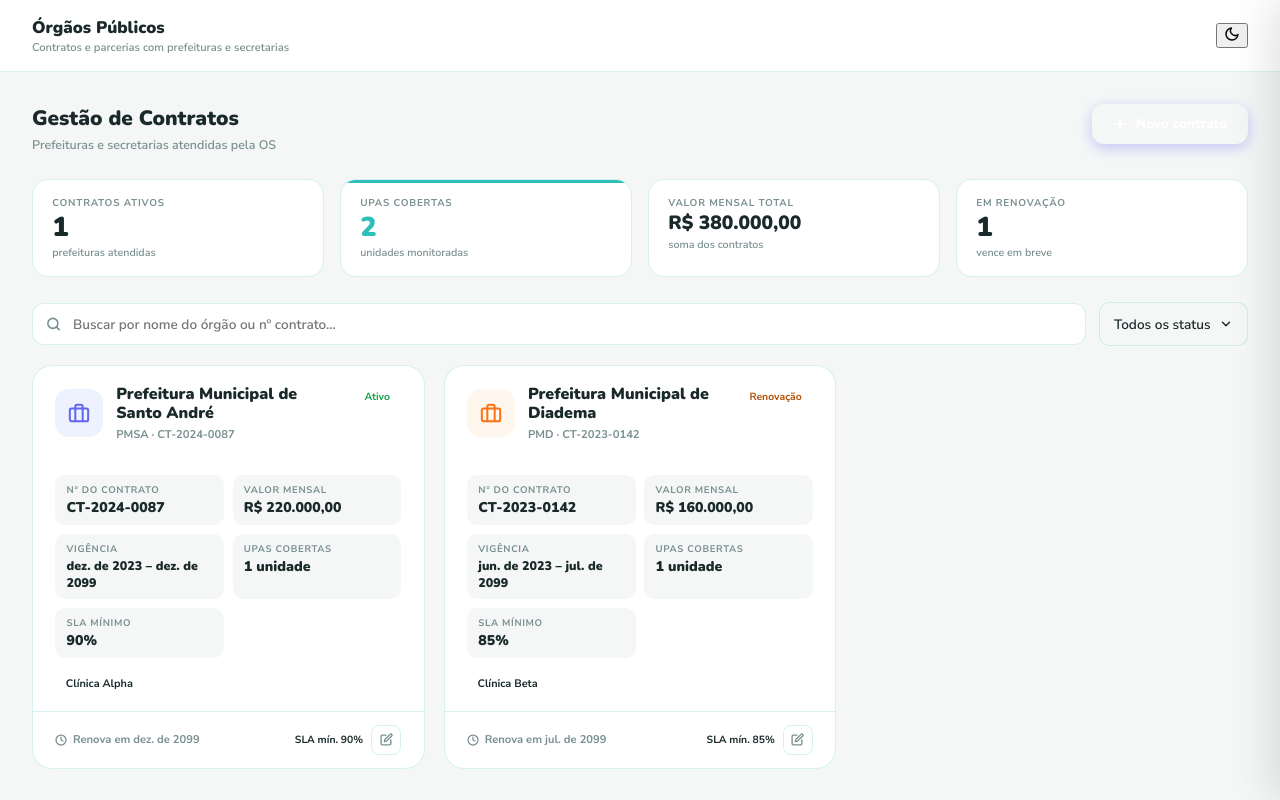
Test case: <AdminOrgaos /> › abre drawer "Editar contrato" ao clicar em editar
expect the text "Prefeitura Municipal de Santo André" is shown: met, box [116, 383, 297, 424]
Click the button with class "org-act-btn" below "Clínica Alpha": (386, 740) [371, 725, 401, 755]
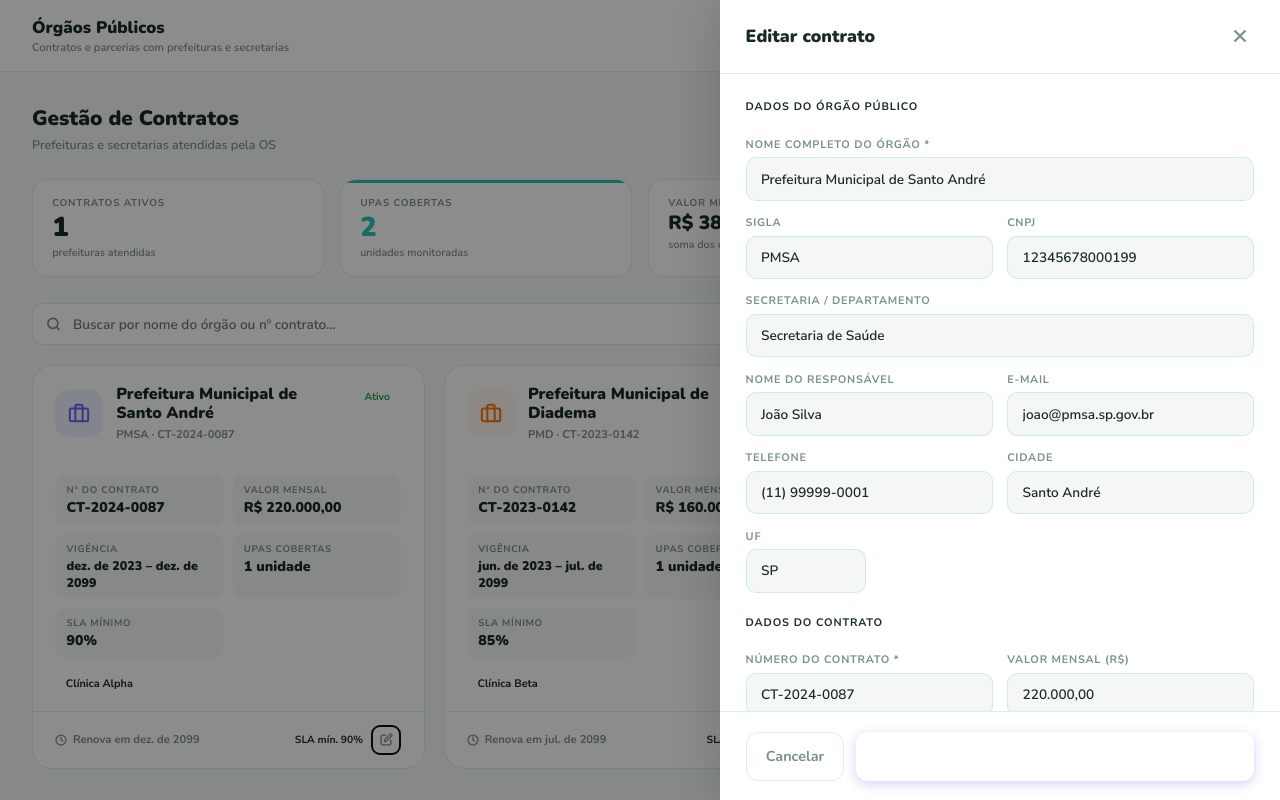
expect the text with class "org-drawer-title" reads "Editar contrato": met, box [746, 24, 875, 48]
